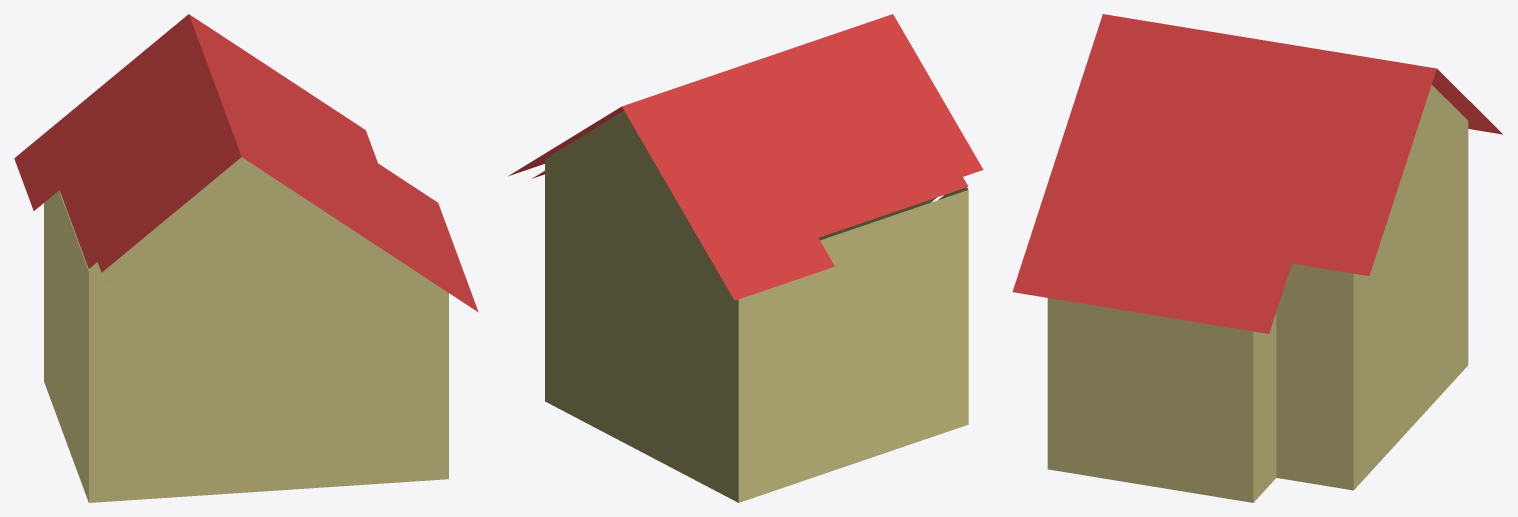
The picture shows the model from 3 angles, left to right: view 1: azimuth 30°, elevation 25°; view 2: azimuth 150°, elevation 25°; view 3: azimuth 270°, elevation 25°; orthographic projection. The views are drawn at different scales.
Size of the model in its own units: 12.93 by 13.46 by 10.98.
